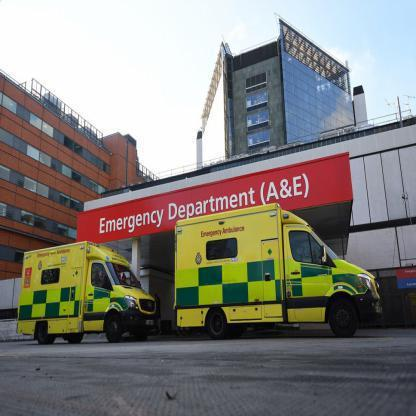Ambulance - v1 Ambulance last generate: (170, 190, 387, 358), (10, 236, 165, 347)
